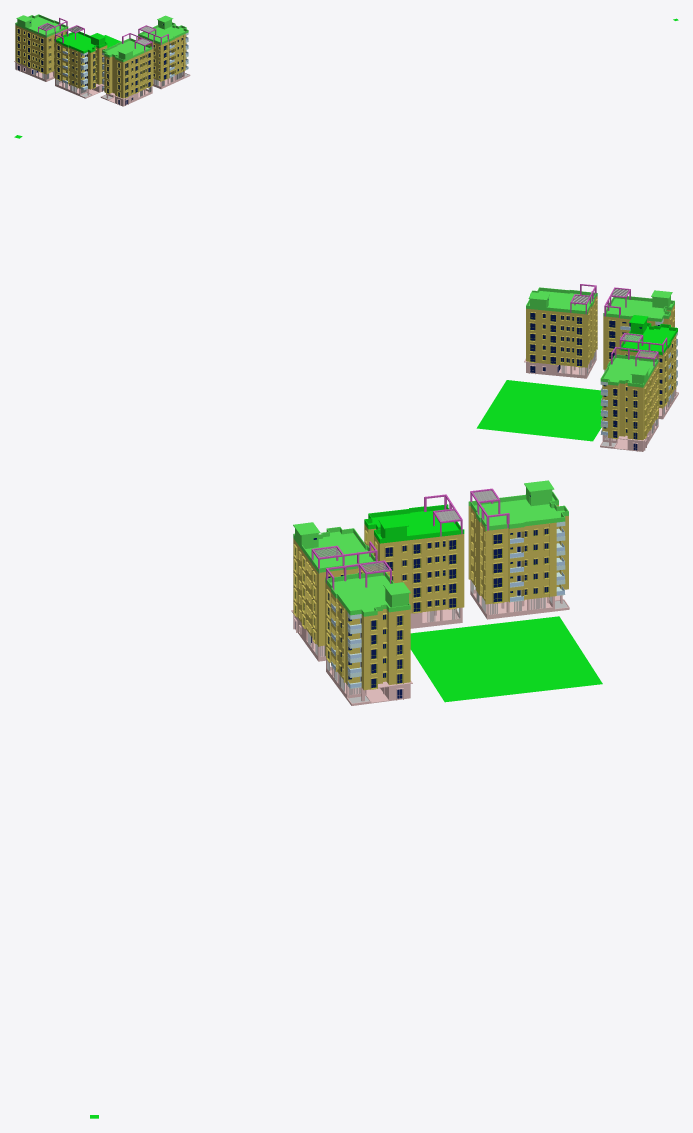
File: basemap-Residence.fbx
3 views of the same model, one above another, from view 1: azimuth 30°, elevation 25°; view 2: azimuth 150°, elevation 25°; view 3: azimuth 270°, elevation 25° (orthographic). The views are drawn at different scales.
Visible parts, largest first — view 1: WALL.004, WALL.001, WALL.002, WALL.003, ROOF_1.001, ROOF_1.003, ROOF_1.002, ROOF_1.004, WINDOW.004, WINDOW.002, GROUND_FLOOR_1.004, GROUND_FLOOR_1.001 (+10 smaller); view 2: ROOF_1.001, WALL.003, WALL.002, ROOF_1.004, ROOF_1.002, ROOF_1.003, WALL.001, WINDOW.003, WALL.004, GROUND_FLOOR_1.003, GROUND_FLOOR_1.002, WINDOW.002 (+1 smaller); view 3: ROOF_1.001, WALL.002, WALL.003, WALL.001, ROOF_1.002, ROOF_1.003, WALL.004, ROOF_1.004, WINDOW.001, GROUND_FLOOR_1.002, GROUND_FLOOR_1.003, LOUVER.002 (+3 smaller).
Part boxes in pixels (<box>): WALL.004: <box>104,49,153,98</box>; WALL.001: <box>54,41,107,89</box>; WALL.002: <box>15,25,67,74</box>; WALL.003: <box>138,34,186,81</box>; ROOF_1.001: <box>54,18,678,53</box>; ROOF_1.003: <box>138,15,188,44</box>; ROOF_1.002: <box>15,14,68,37</box>; ROOF_1.004: <box>102,38,153,62</box>; WINDOW.004: <box>107,53,150,97</box>; WINDOW.002: <box>17,28,67,72</box>; GROUND_FLOOR_1.004: <box>100,86,152,106</box>; GROUND_FLOOR_1.001: <box>55,78,104,98</box>; ROOF_1.001: <box>14,135,677,441</box>; WALL.003: <box>526,296,597,367</box>; WALL.002: <box>602,362,658,440</box>; ROOF_1.004: <box>603,290,674,321</box>; ROOF_1.002: <box>600,354,658,387</box>; ROOF_1.003: <box>526,287,597,314</box>; WALL.001: <box>619,334,676,408</box>; WINDOW.003: <box>530,312,581,366</box>; WALL.004: <box>603,304,674,369</box>; GROUND_FLOOR_1.003: <box>524,349,596,378</box>; GROUND_FLOOR_1.002: <box>600,418,658,451</box>; WINDOW.002: <box>603,369,657,439</box>; ROOF_1.001: <box>90,504,602,1118</box>; WALL.002: <box>468,505,568,604</box>; WALL.003: <box>325,582,410,690</box>; WALL.001: <box>364,524,464,613</box>; ROOF_1.002: <box>468,480,568,530</box>; ROOF_1.003: <box>325,572,410,616</box>; WALL.004: <box>293,538,377,646</box>; ROOF_1.004: <box>293,522,377,573</box>; WINDOW.001: <box>366,534,456,612</box>; GROUND_FLOOR_1.002: <box>470,580,569,619</box>; GROUND_FLOOR_1.003: <box>326,659,412,705</box>; LOUVER.002: <box>470,488,552,614</box>.
Bounding box in the file's own units: 28893 × 2627 × 11698.
